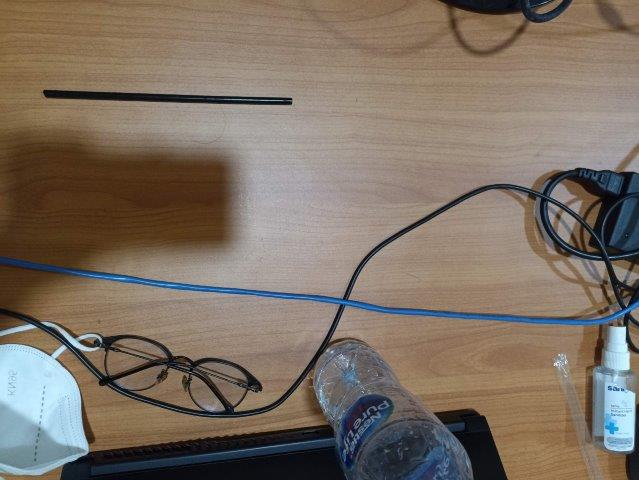sedotan: (43, 90, 292, 105)
